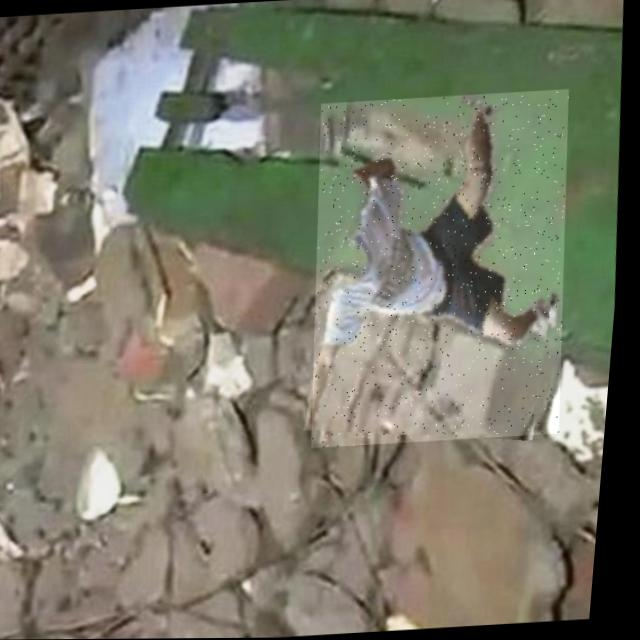Person in Rubble: (301, 89, 589, 448)
